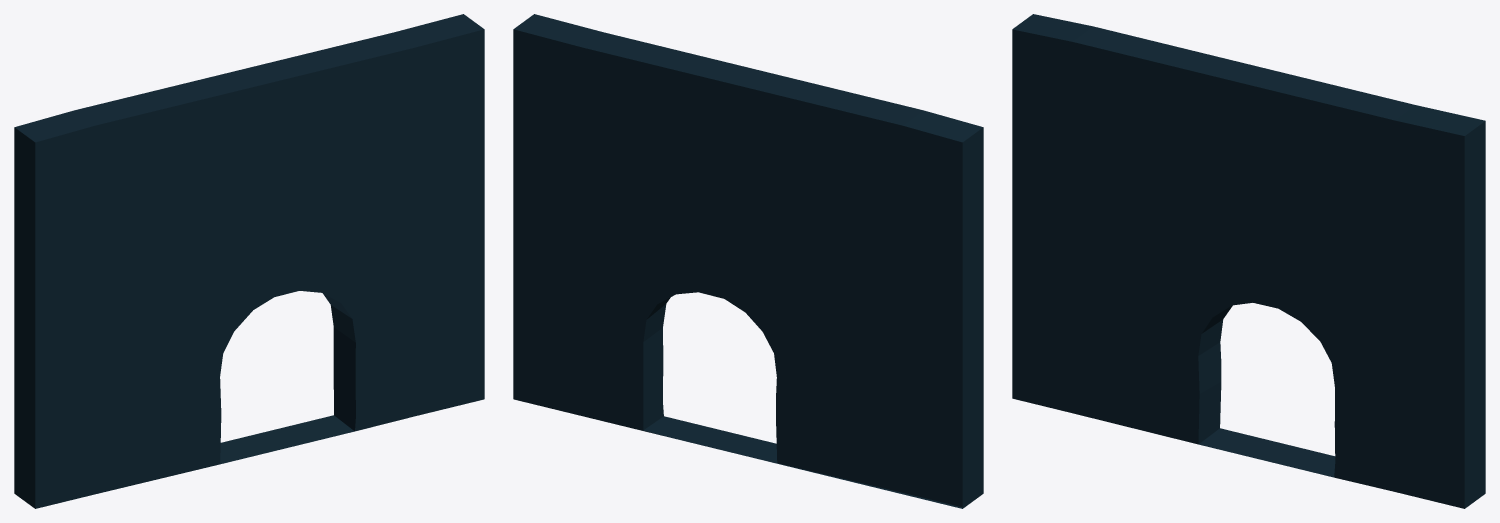
Rendered from front wall.fbx.
3 views of the same model, side by side, from view 1: azimuth 30°, elevation 25°; view 2: azimuth 150°, elevation 25°; view 3: azimuth 330°, elevation 25° (orthographic).
Visible parts, largest first — view 1: 立方体.028; view 2: 立方体.028; view 3: 立方体.028.
Part boxes in pixels (x1,y1,x2,y2): 立方体.028: (14, 14, 484, 508); 立方体.028: (513, 14, 983, 508); 立方体.028: (1012, 14, 1485, 508).
Bounding box in the file's own units: 730 × 576 × 58.82.
